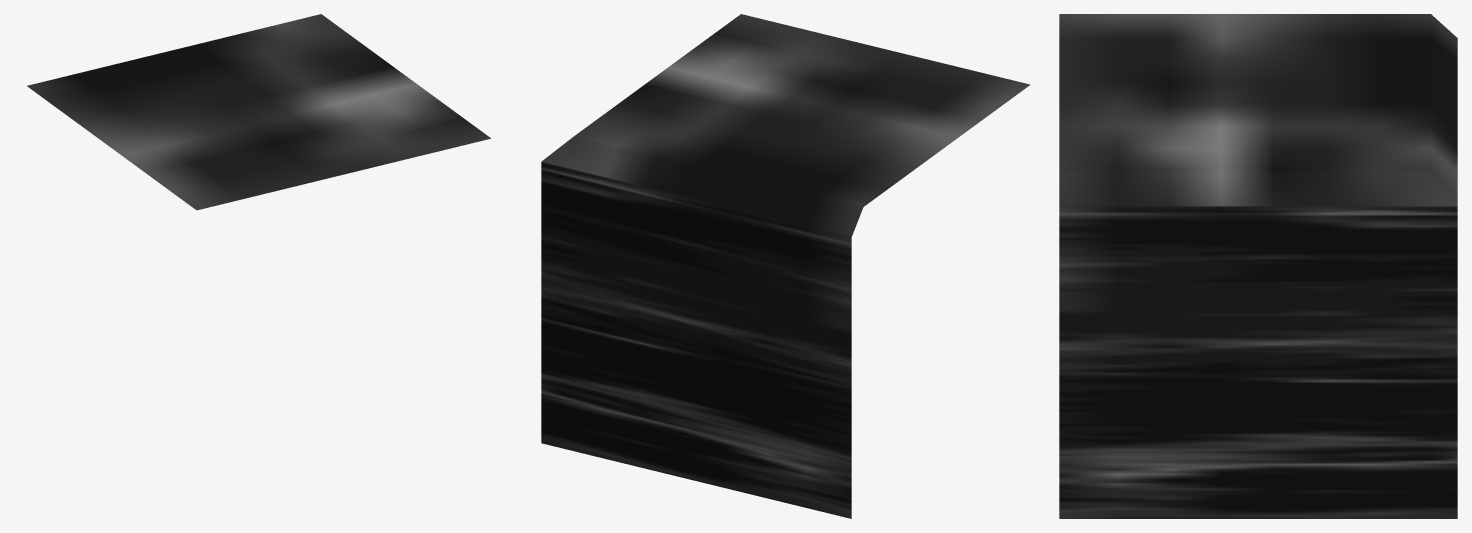
Rendered from f02-black-marble-corner-north-east.glb.
The picture shows the model from 3 angles, left to right: view 1: azimuth 30°, elevation 25°; view 2: azimuth 150°, elevation 25°; view 3: azimuth 270°, elevation 25°; orthographic projection. The views are drawn at different scales.
Visible parts, largest first — view 1: f02-black-marble-corner-north-east; view 2: f02-black-marble-corner-north-east; view 3: f02-black-marble-corner-north-east.
Part boxes in pixels (x1,y1,x2,y2): f02-black-marble-corner-north-east: (27, 14, 490, 210); f02-black-marble-corner-north-east: (541, 14, 1030, 518); f02-black-marble-corner-north-east: (1059, 14, 1457, 518).
Size of the model in its own units: 0.06 by 0.056 by 0.06.
1 material, 1 textured.
